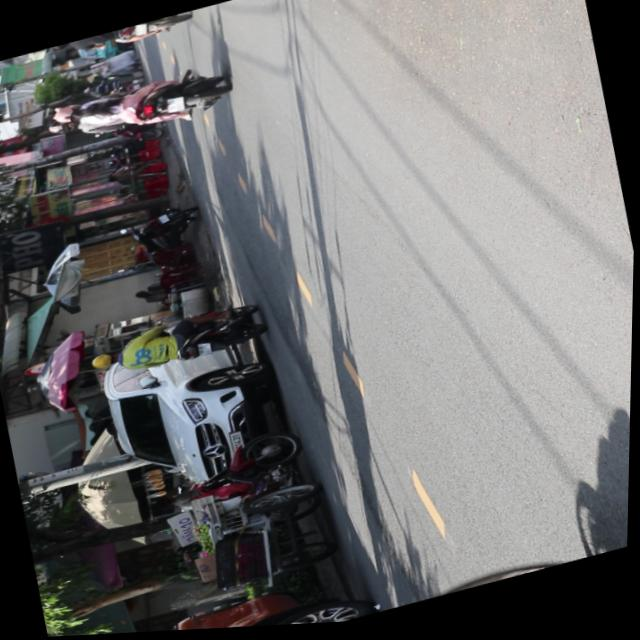helmet: (49, 104, 83, 129), (89, 353, 121, 374), (48, 121, 77, 139)
licenseplate: (42, 62, 233, 157), (84, 300, 270, 389)
nohelmet: (164, 98, 186, 116), (197, 345, 213, 360)
